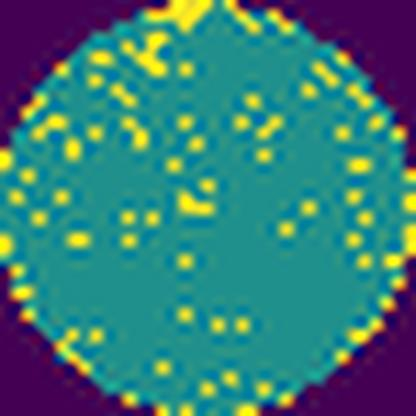Edge-Loc: (145, 0, 211, 31), (402, 220, 415, 255)
